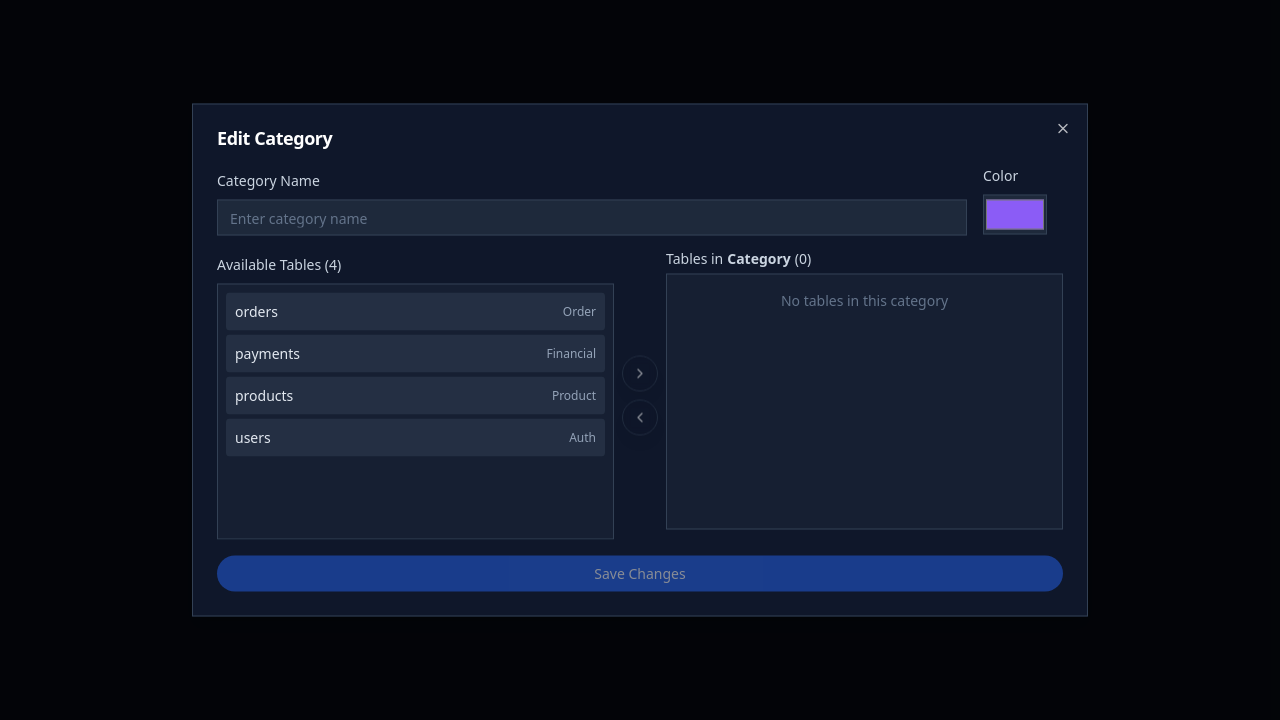
it: CategoryEditDialog › New Category Creation › should enable save button for new category when tables are added
Type "New Category" into the field labelled "Category Name".
click(592, 218); type("New Category")  # box [217,200,967,236]
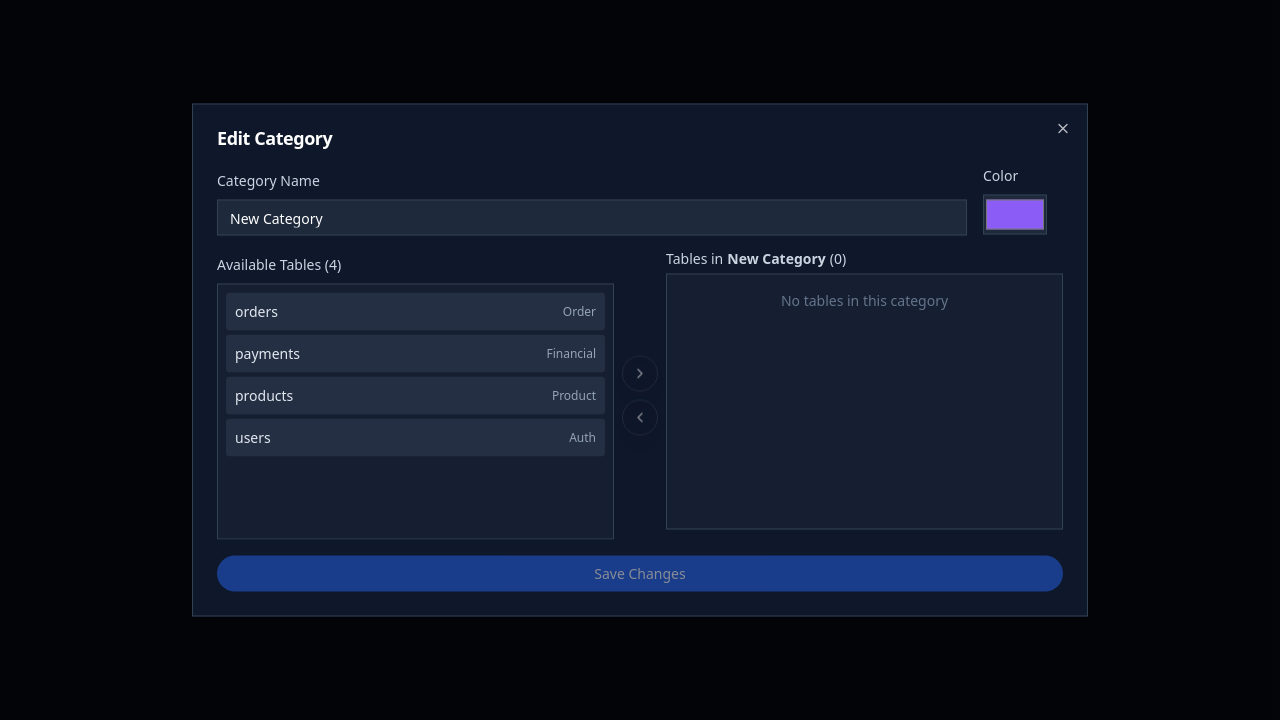
# Select a table
Click the text "users".
click(253, 438)  # box [235,428,271,448]
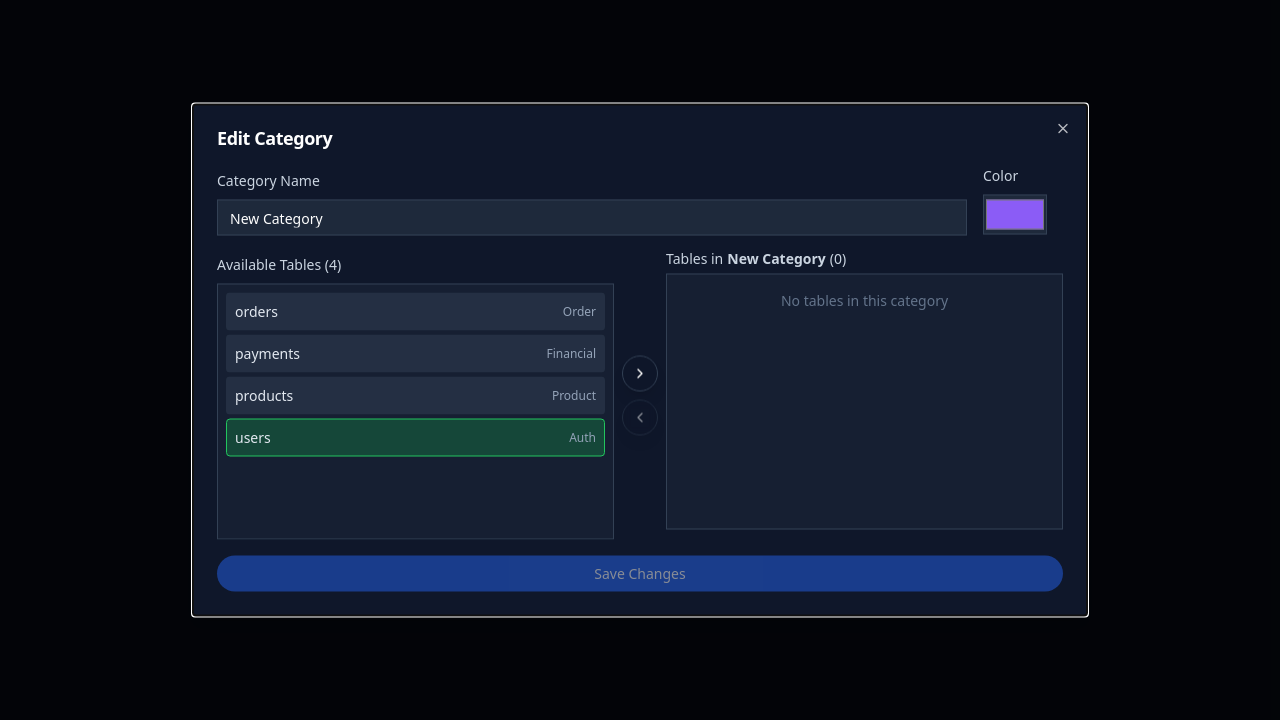
Click the 2nd button.
click(640, 374)  # box [622,356,658,392]
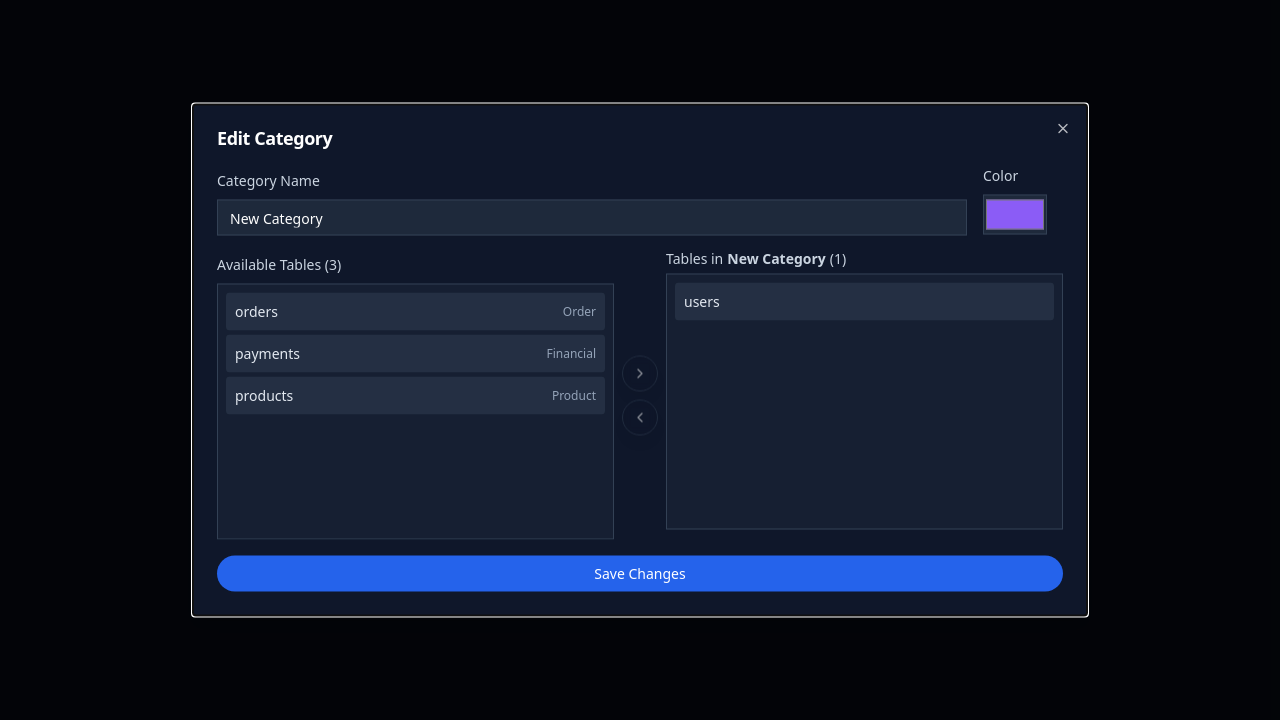
Expected: the button "Save Changes" is enabled, [217,556,1063,592]
